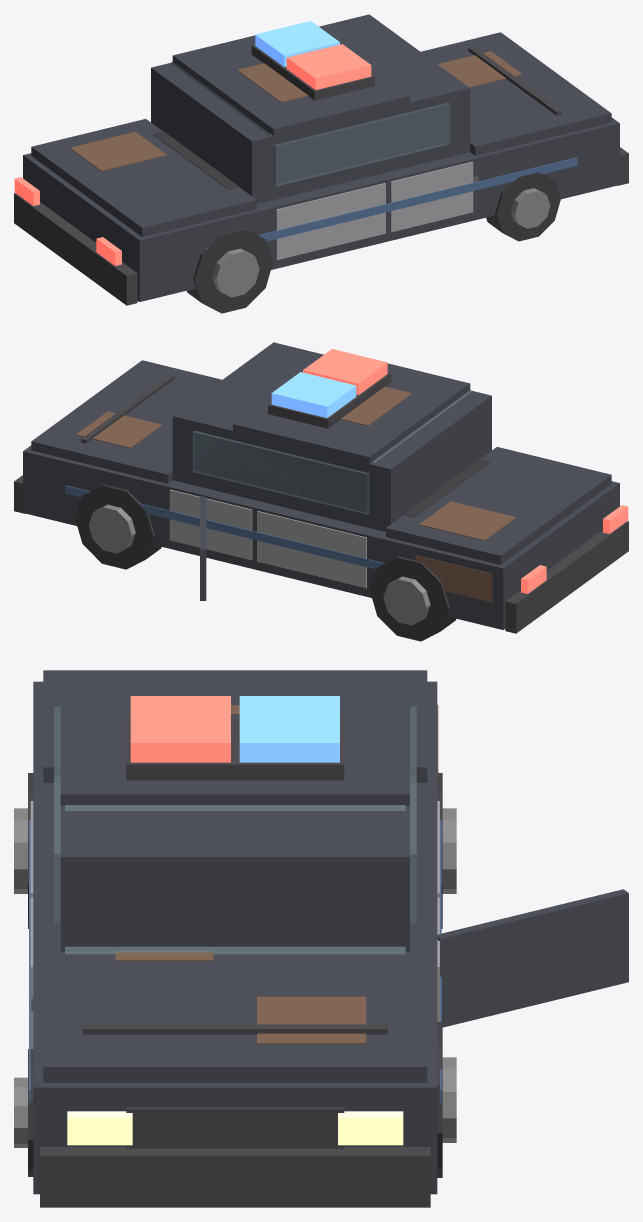
The model's file is carro_policia.glb.
3 views of the same model, one above another, from view 1: azimuth 30°, elevation 25°; view 2: azimuth 150°, elevation 25°; view 3: azimuth 270°, elevation 25° (orthographic). The views are drawn at different scales.
Visible parts, largest first — view 1: body, wheels, glass, decor_grim, lights_red, lights_blue; view 2: body, wheels, glass, decor_grim, lights_red, lights_blue; view 3: body, glass, wheels, lights_red, lights_blue, decor_grim, lights_amber.
Part boxes in pixels (x1,y1,x2,y2): body: (14,14,628,305); wheels: (186,172,560,313); glass: (171,62,450,186); decor_grim: (70,51,522,202); lights_red: (14,44,371,265); lights_blue: (255,21,339,66); body: (14,342,628,633); wheels: (75,484,456,641); glass: (192,390,471,514); decor_grim: (76,386,516,602); lights_red: (303,349,628,593); lights_blue: (271,372,356,417); body: (29,670,628,1207); glass: (54,706,416,954); wheels: (14,773,456,1177); lights_red: (130,696,230,762); lights_blue: (239,696,339,762); decor_grim: (31,704,438,1043); lights_amber: (67,1111,403,1145).
Bounding box in the file's own units: 4.65 × 1.61 × 2.82.
